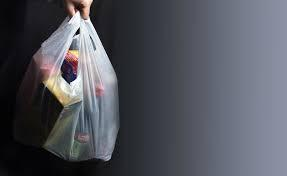Plastic bag: (5, 2, 142, 165)
